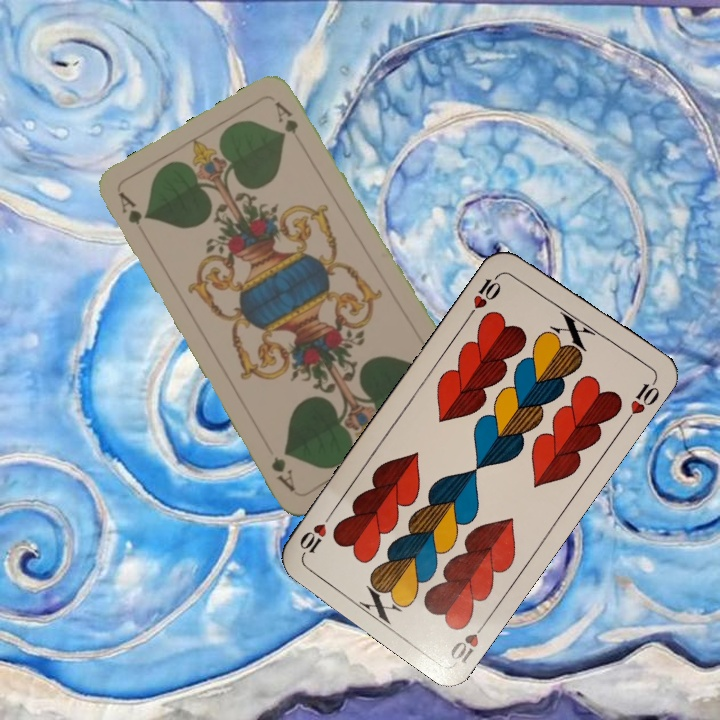GA: (114, 188, 145, 228)
H10: (446, 614, 492, 666), (465, 268, 505, 319)
